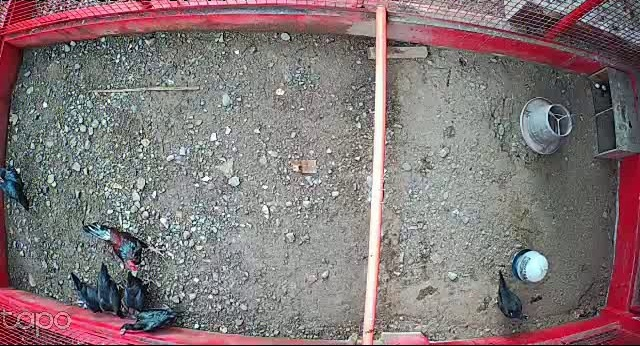Chicken: (491, 269, 531, 322), (117, 307, 183, 336), (93, 260, 124, 319), (0, 167, 38, 211), (120, 268, 150, 317), (68, 272, 102, 315)
Drinker: (511, 247, 550, 284)
Feeder: (519, 92, 574, 157)
Rooster: (78, 219, 168, 276)
